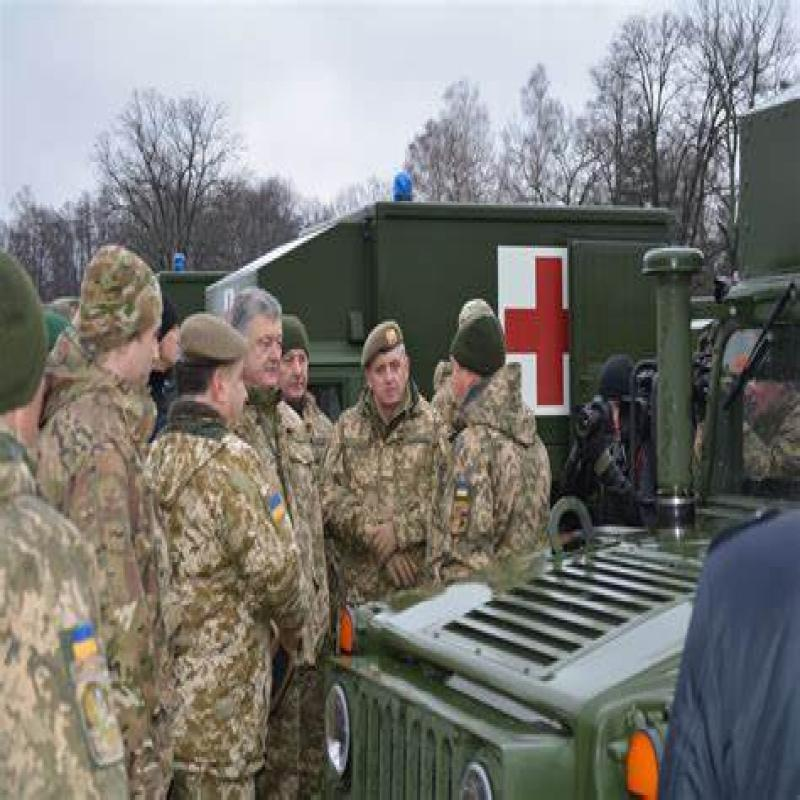AmbulanceSiren: (380, 168, 423, 216)
